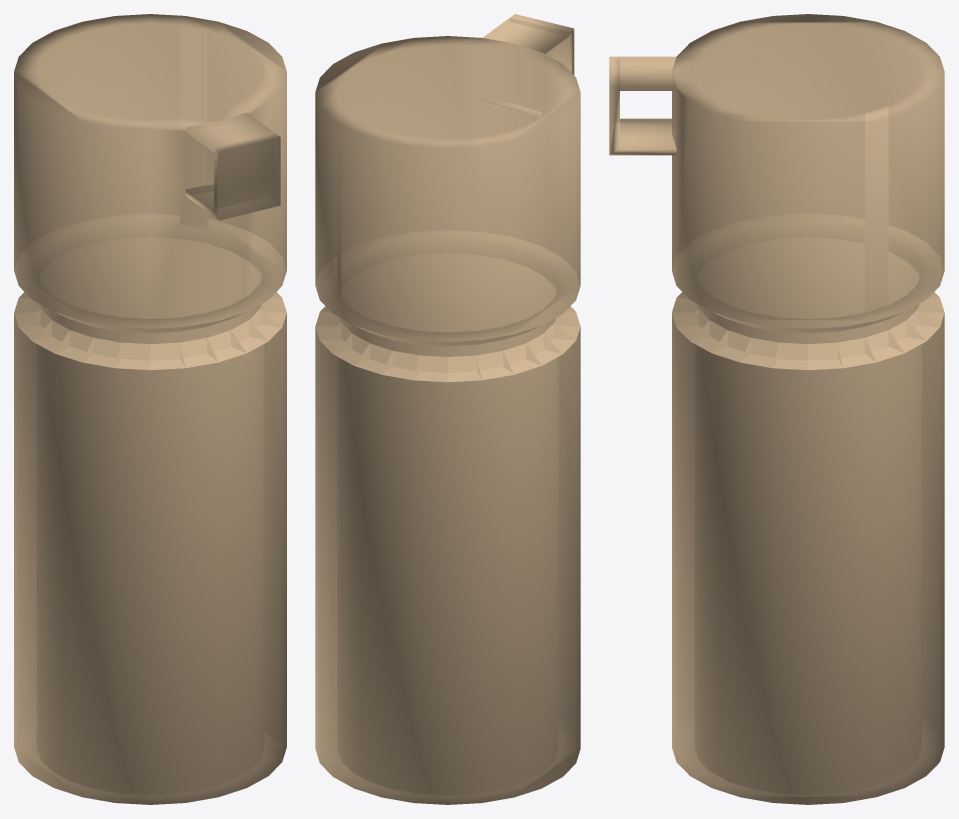
3 views of the same model, side by side, from view 1: azimuth 30°, elevation 25°; view 2: azimuth 150°, elevation 25°; view 3: azimuth 270°, elevation 25° (orthographic). The views are drawn at different scales.
Visible parts, largest first — view 1: mesh1_mesh1-geometry; view 2: mesh1_mesh1-geometry; view 3: mesh1_mesh1-geometry.
Part boxes in pixels (box(x1,y1,x2,y2)): mesh1_mesh1-geometry: box(14, 14, 286, 804); mesh1_mesh1-geometry: box(315, 14, 580, 804); mesh1_mesh1-geometry: box(609, 14, 944, 804).
Bounding box in the file's own units: 0.3166 × 0.8651 × 0.3891.
